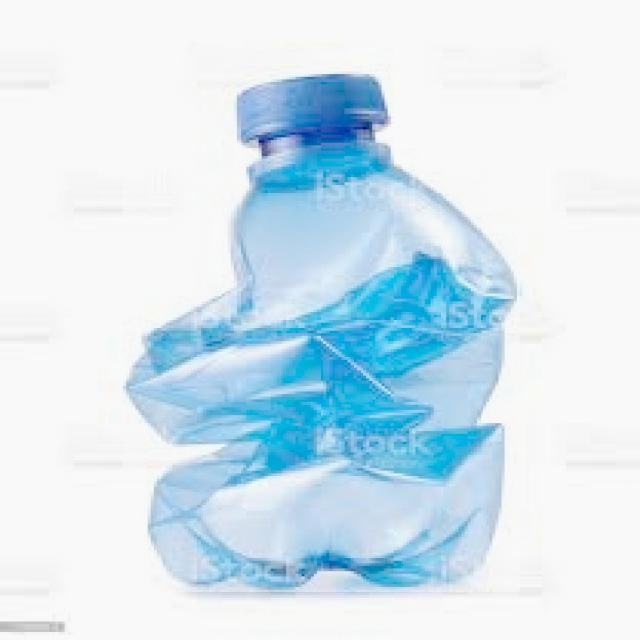BIODEGRADABLE: (123, 52, 520, 592)
